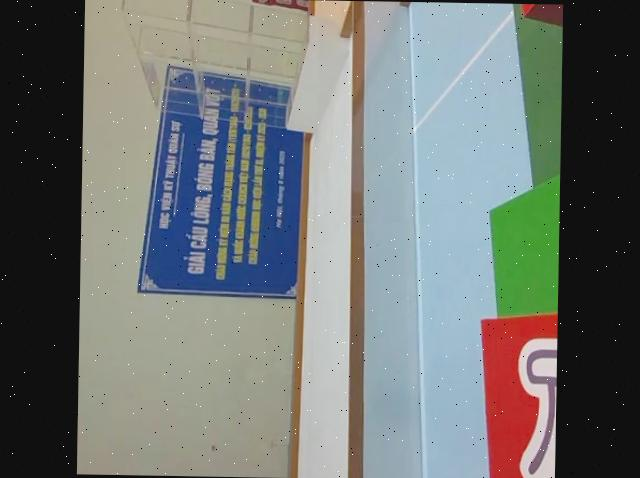R2 Fake: (470, 306, 558, 478)
